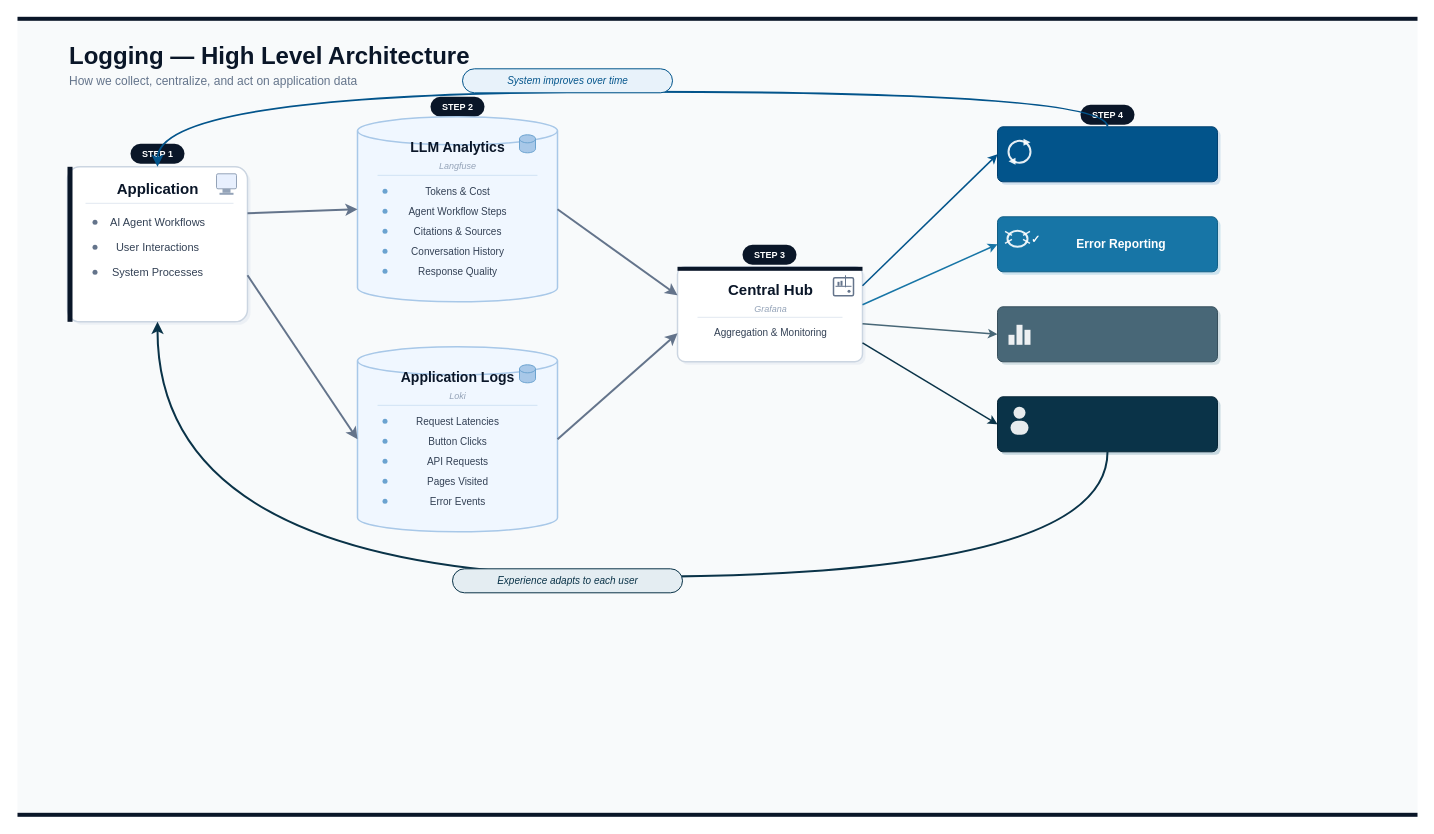
This 1434x834 diagram has some shape labels left out. The box of each missing label's shape, as (x1, y1, x2, y2) in pixels:
Analytics & Reporting: (996, 306, 1218, 362)
Autonomous Feedback Loop: (996, 126, 1218, 182)
Personalization: (996, 396, 1218, 452)
